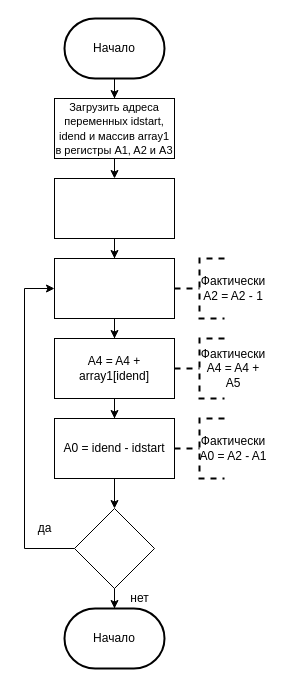
This 286x686 diagram has some shape labels left out. The box of each missing label's shape, as (x1, y1, x2, y2) in pixels:
A0 != 0: (74, 508, 154, 588)
idend = idend - 1: (54, 258, 174, 318)
Выгрузить значения из адресов в регистры A1, A2 и A5: (54, 178, 174, 238)
